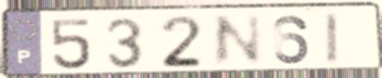2: (158, 14, 203, 70)
3: (105, 16, 148, 71)
5: (49, 17, 94, 71)
6: (271, 14, 312, 66)
I: (322, 10, 341, 67)
N: (210, 12, 265, 70)
